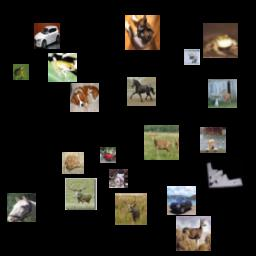airplane: (205, 156, 243, 194)
automobile: (167, 186, 196, 215), (34, 23, 60, 49), (100, 147, 116, 163)
bird: (13, 64, 29, 80)
cat: (125, 15, 160, 50)
deer: (176, 216, 211, 251), (144, 125, 179, 160), (65, 178, 97, 210), (115, 193, 147, 225), (208, 79, 237, 108), (184, 49, 200, 65)
dog: (70, 83, 99, 112), (200, 127, 226, 153)
frog: (203, 23, 238, 58), (48, 53, 77, 82), (62, 152, 84, 174)
